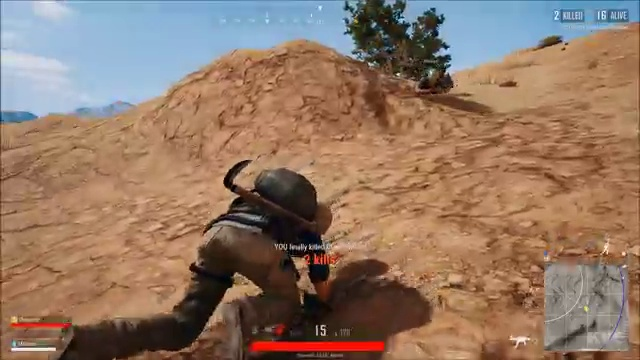Player: (168, 157, 358, 276)
